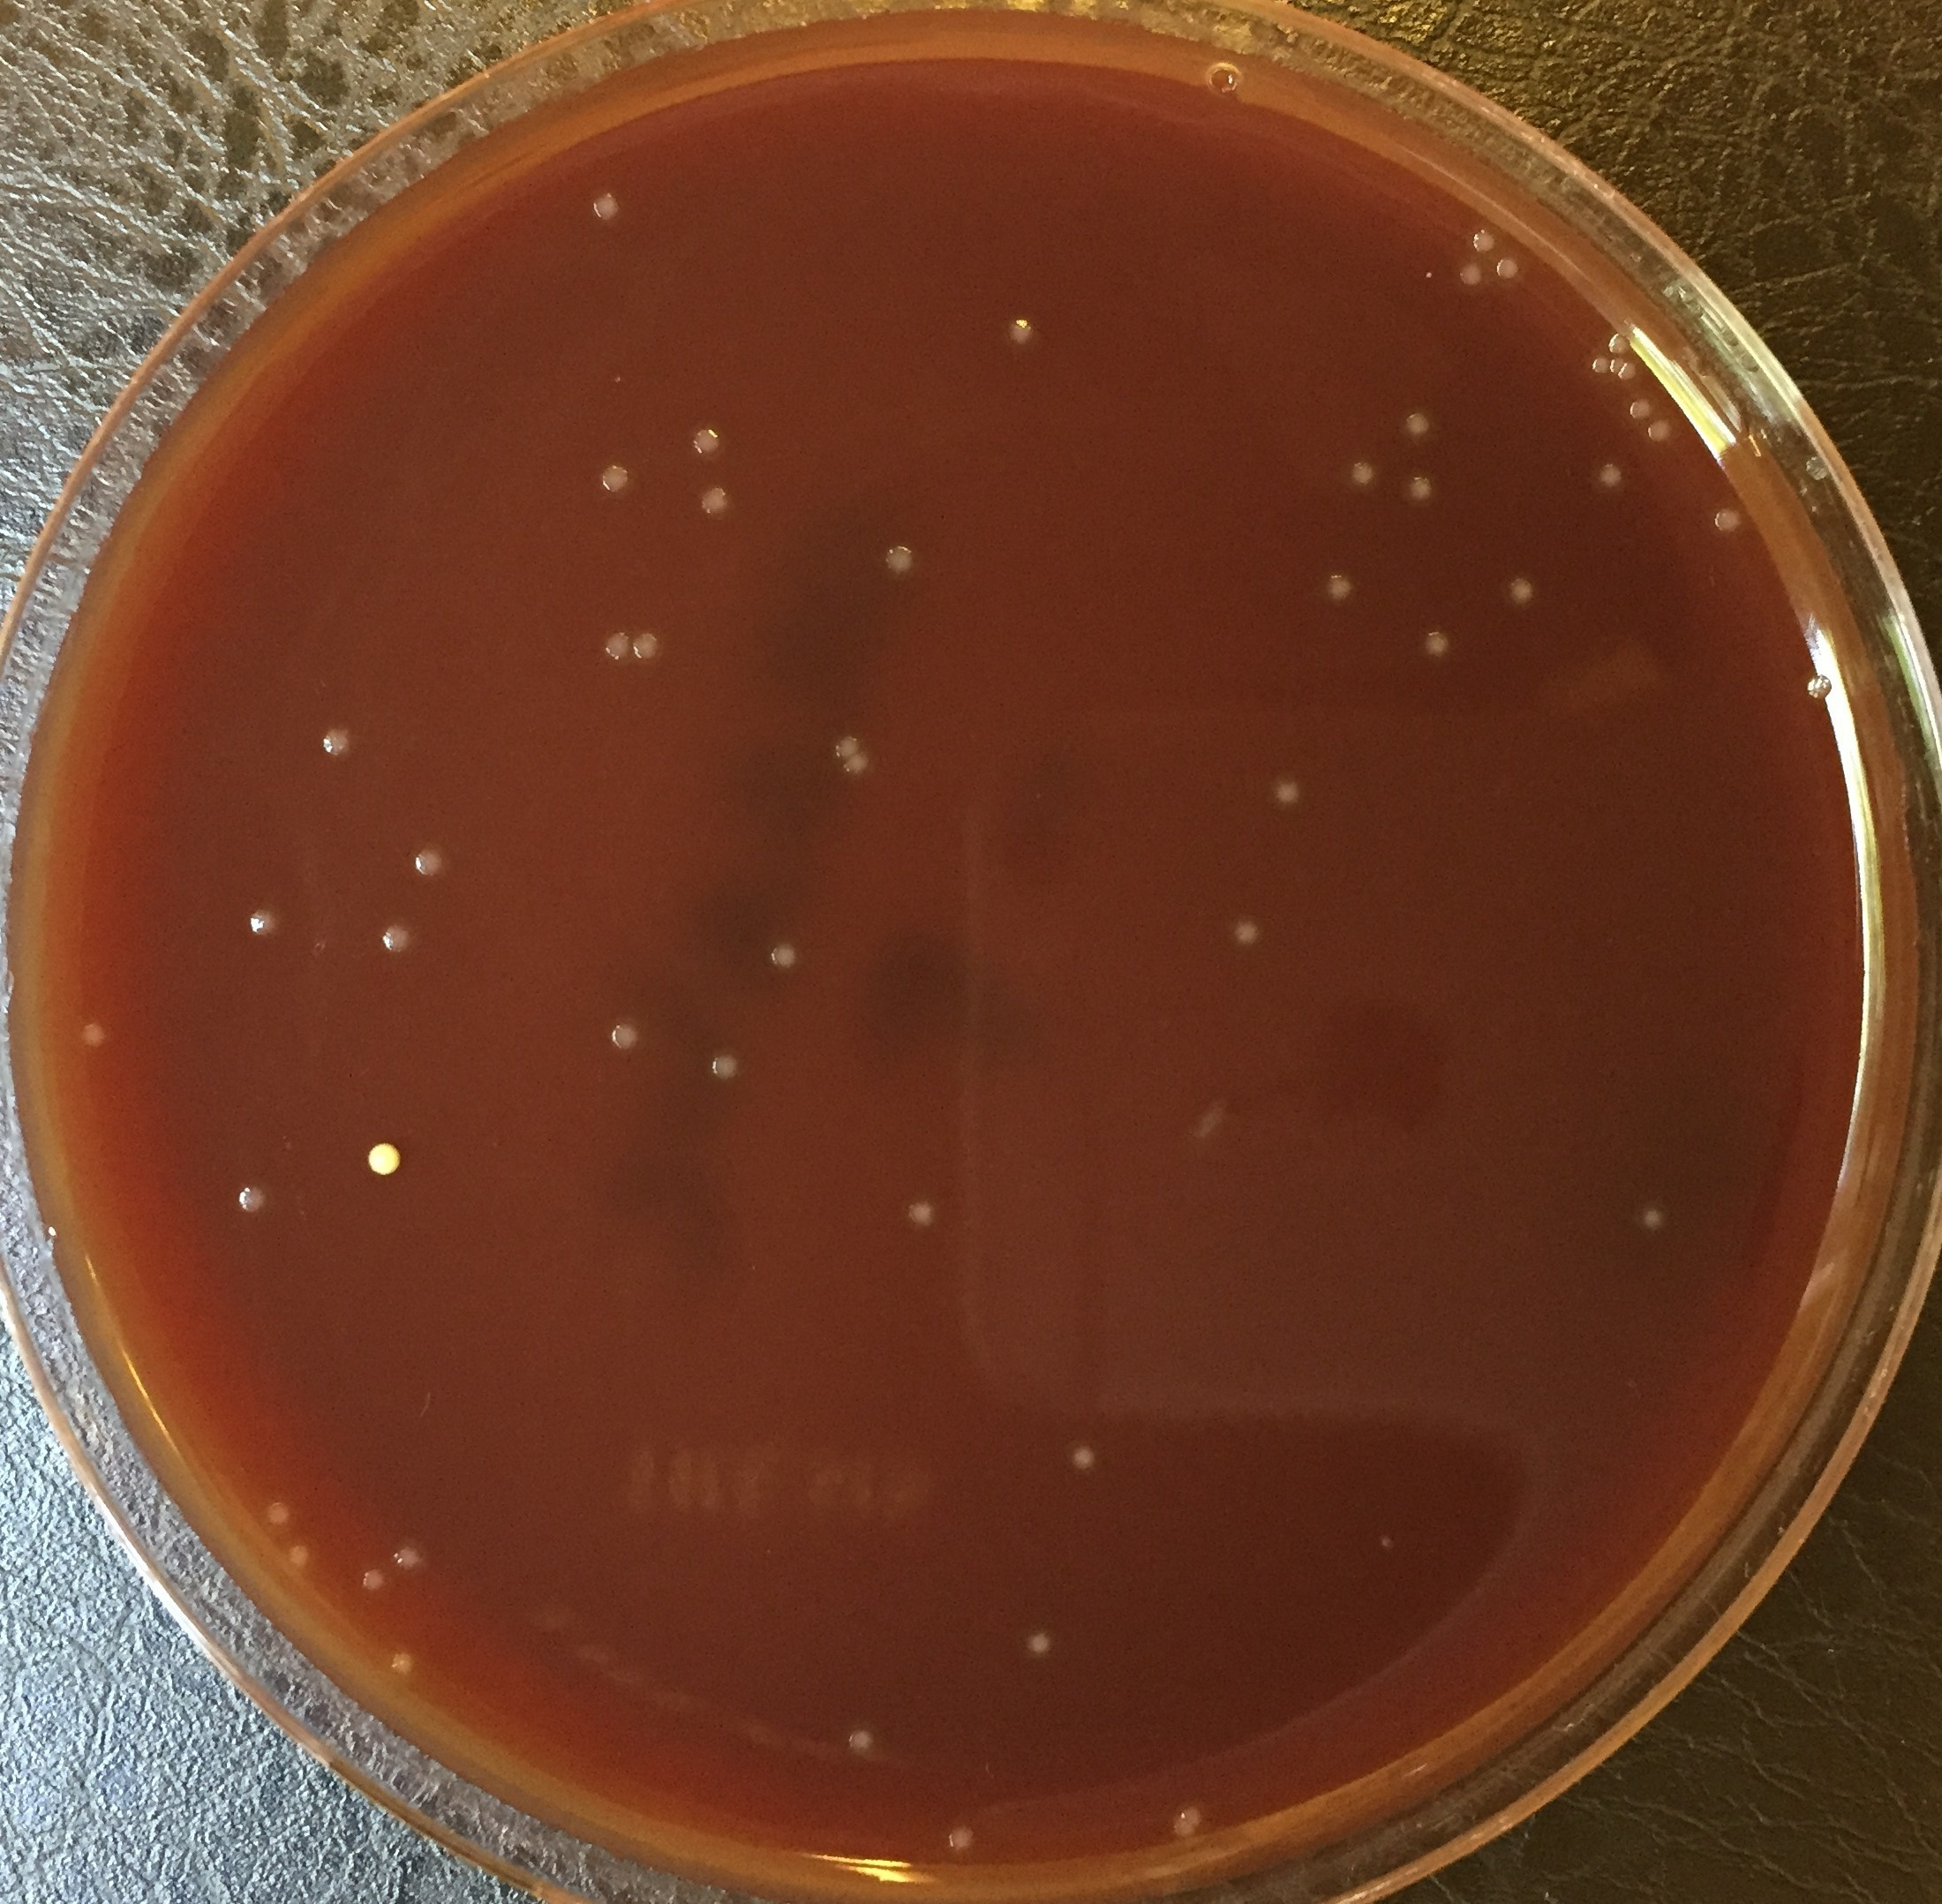sp10: (385, 1538, 432, 1581), (1222, 910, 1266, 952), (1633, 1198, 1675, 1236), (1062, 1438, 1102, 1477), (411, 844, 450, 881), (1020, 1627, 1060, 1662), (1803, 670, 1843, 704), (708, 1050, 744, 1086), (1321, 572, 1360, 607), (1499, 575, 1539, 609), (387, 1646, 422, 1683), (1419, 628, 1456, 663), (319, 725, 356, 760), (1269, 774, 1306, 809), (1593, 462, 1632, 495), (246, 907, 284, 940), (281, 1540, 316, 1574), (697, 485, 734, 518), (631, 629, 662, 668), (75, 1020, 113, 1051), (844, 1724, 879, 1758), (1403, 473, 1436, 507), (378, 924, 413, 957), (943, 1820, 974, 1857), (1710, 507, 1747, 539), (767, 938, 798, 975), (882, 542, 917, 574), (594, 629, 629, 661), (608, 1020, 643, 1051), (234, 1184, 265, 1219), (594, 462, 631, 492), (1348, 457, 1379, 490), (1400, 408, 1433, 439), (689, 425, 722, 457), (1646, 415, 1677, 446), (357, 1567, 390, 1597), (840, 748, 873, 778), (1454, 260, 1489, 288), (905, 1198, 934, 1229), (1494, 255, 1525, 284), (587, 192, 619, 221), (1604, 331, 1637, 359), (1006, 312, 1034, 345), (260, 1499, 291, 1527), (1471, 227, 1499, 258), (832, 734, 861, 760), (1628, 394, 1654, 422), (1616, 361, 1640, 387), (1588, 354, 1611, 378), (1175, 1803, 1203, 1820), (1171, 1815, 1192, 1836), (1604, 357, 1625, 377), (1375, 1534, 1395, 1550)
